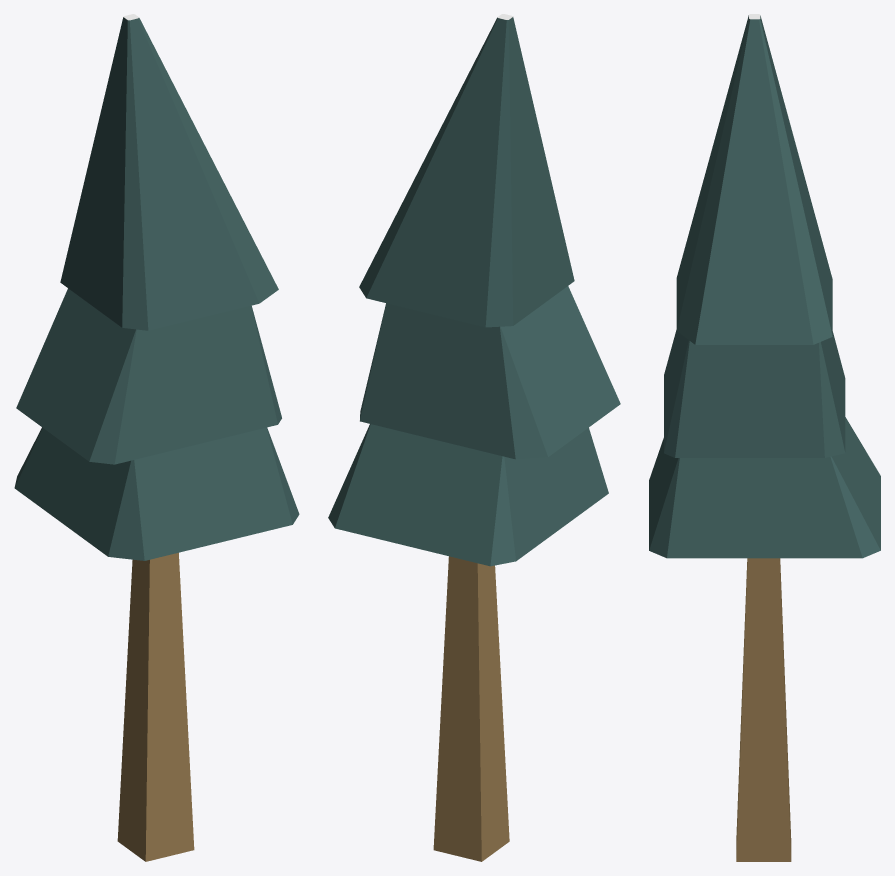
The model's file is naturePack_163.fbx.
3 renders of one model, left to right at view 1: azimuth 30°, elevation 25°; view 2: azimuth 150°, elevation 25°; view 3: azimuth 270°, elevation 25°, orthographic. The views are drawn at different scales.
Parts seen in each view (by area): view 1: Mesh1_Group1 Model; view 2: Mesh1_Group1 Model; view 3: Mesh1_Group1 Model.
Boxes of the visible parts, bbox=[...] form: Mesh1_Group1 Model: bbox=[14, 14, 299, 861]; Mesh1_Group1 Model: bbox=[328, 14, 620, 861]; Mesh1_Group1 Model: bbox=[649, 14, 880, 861].
Bounding box in the file's own units: 1.55 × 6.12 × 1.57.
